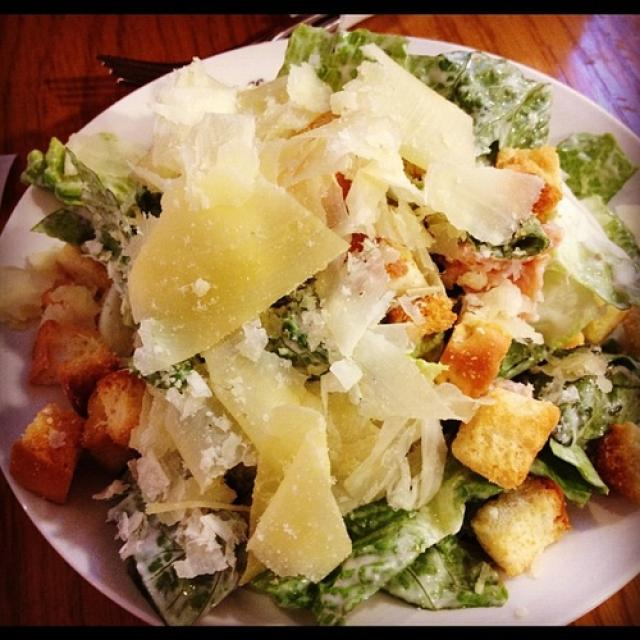蔬菜料理: (5, 23, 635, 623)
